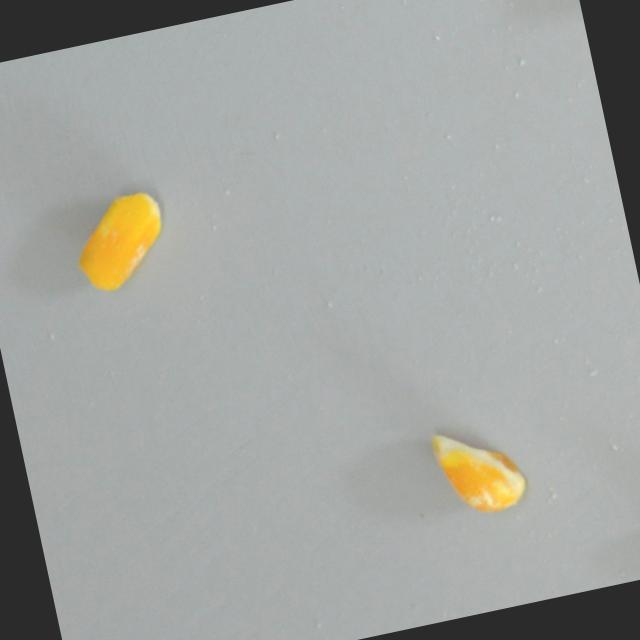dañado: (60, 175, 184, 305), (423, 414, 530, 526)
